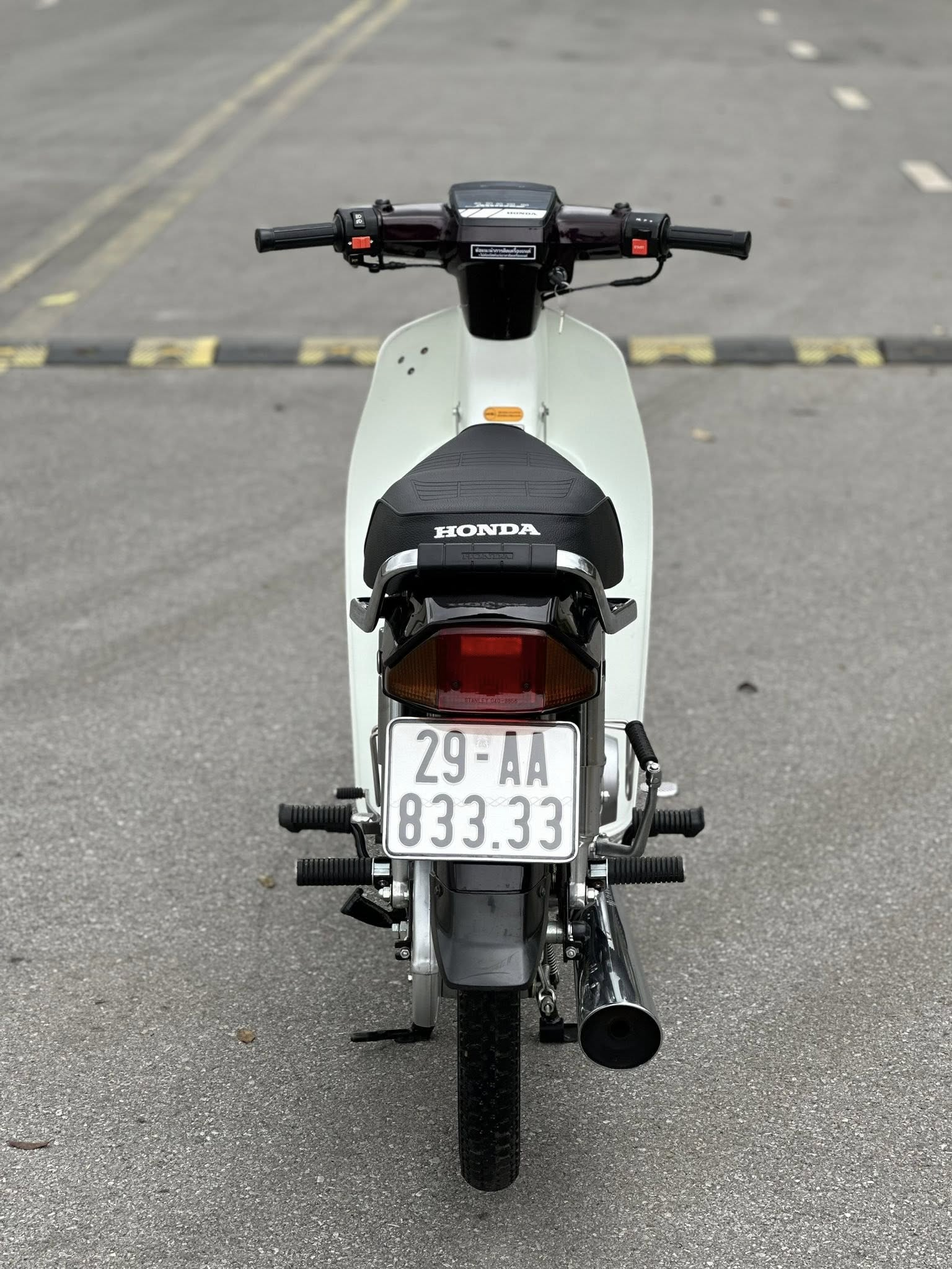bien_so: (379, 713, 592, 869)
